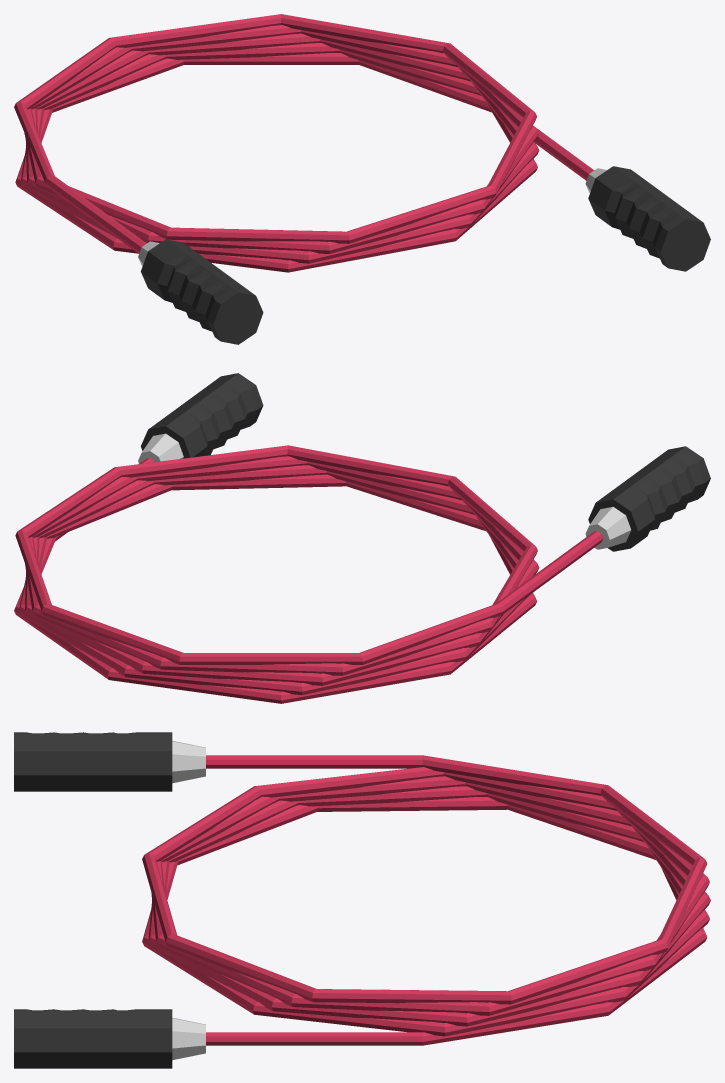
File: Jump rope.glb
3 views of the same model, one above another, from view 1: azimuth 30°, elevation 25°; view 2: azimuth 150°, elevation 25°; view 3: azimuth 270°, elevation 25° (orthographic). The views are drawn at different scales.
Visible parts, largest first — view 1: Node; view 2: Node; view 3: Node.
Part boxes in pixels (x1,y1,x2,y2): Node: (14, 14, 710, 344); Node: (14, 373, 710, 703); Node: (14, 732, 710, 1068).
Size of the model in its own units: 2.17 by 0.3684 by 2.42.
